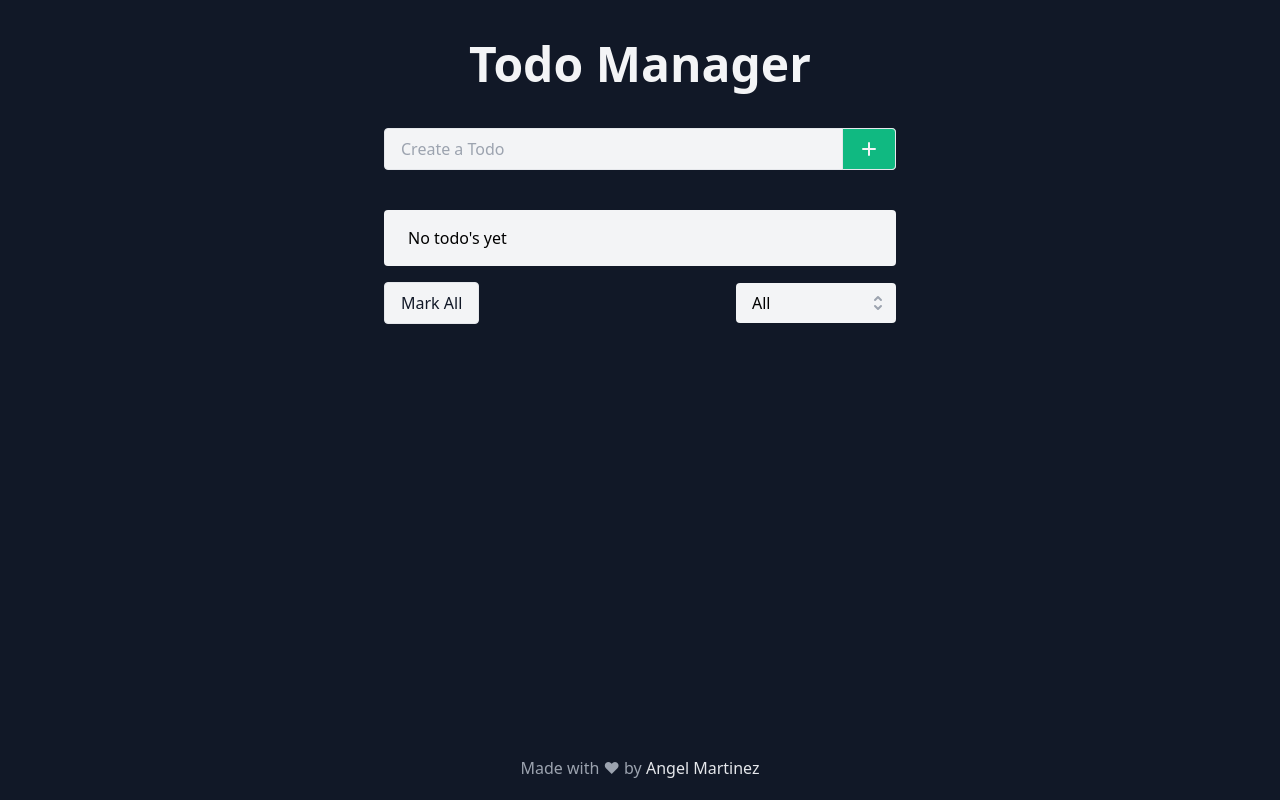
Test: App › should be able to delete a to-do
Type "Go to Grocery Store" into the field with placeholder "Create a Todo" at (640, 149), box x1=384 y1=128 x2=896 y2=170
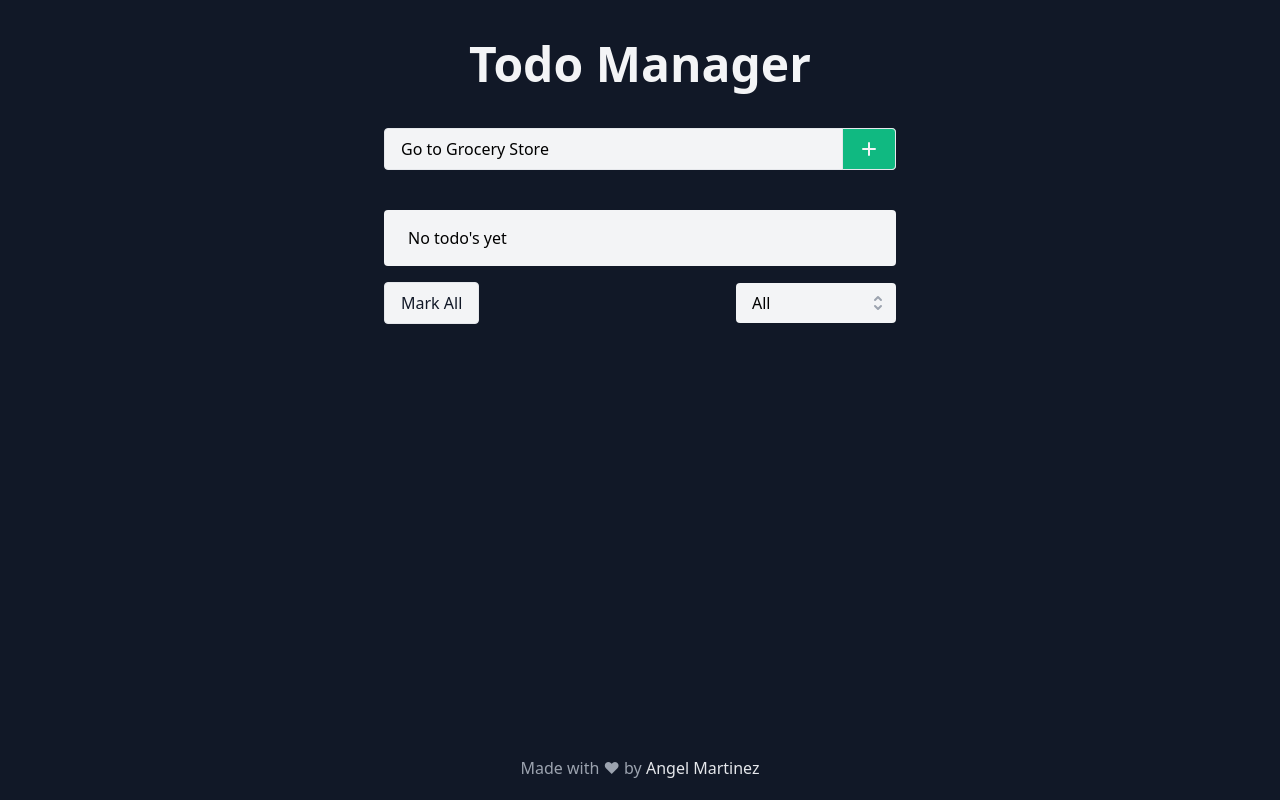
Click the button named "create" at (869, 149), box x1=842 y1=128 x2=896 y2=170
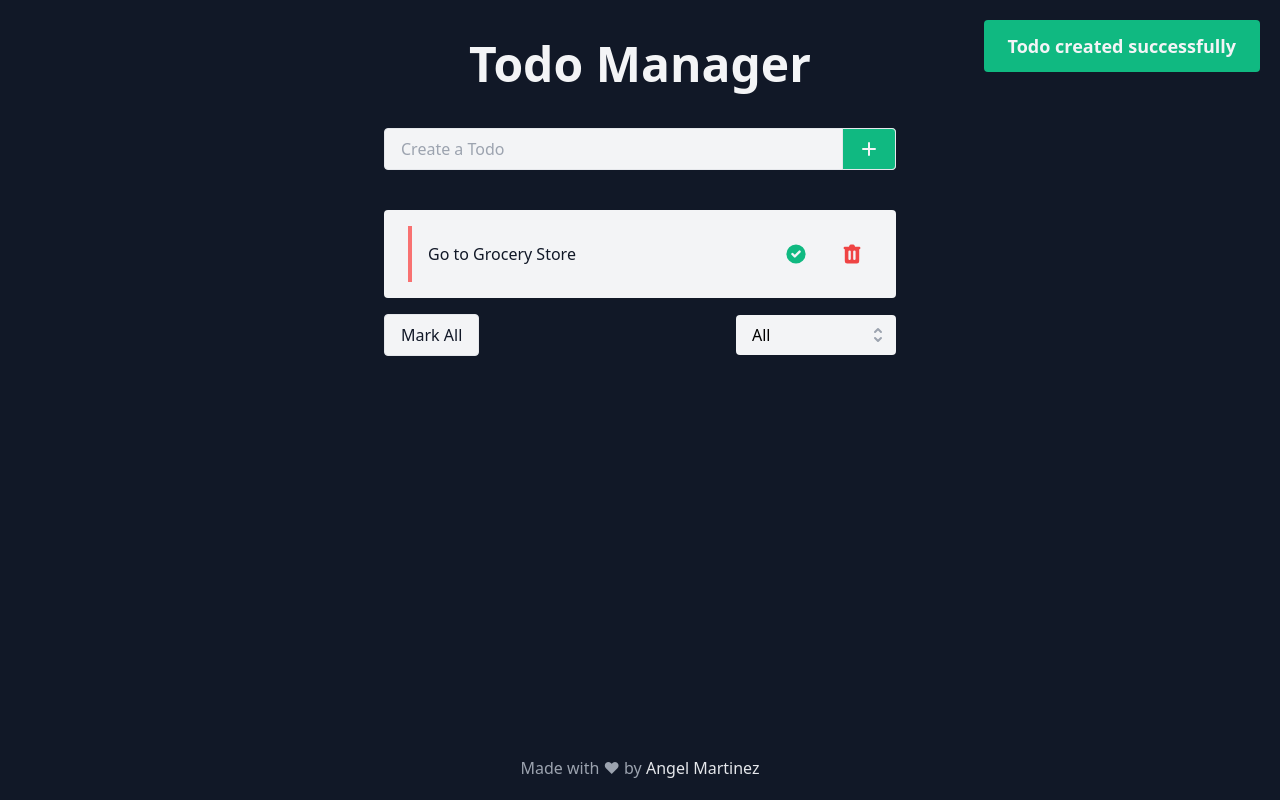
Click the button named "delete-todo" at (852, 254), box x1=832 y1=234 x2=872 y2=274
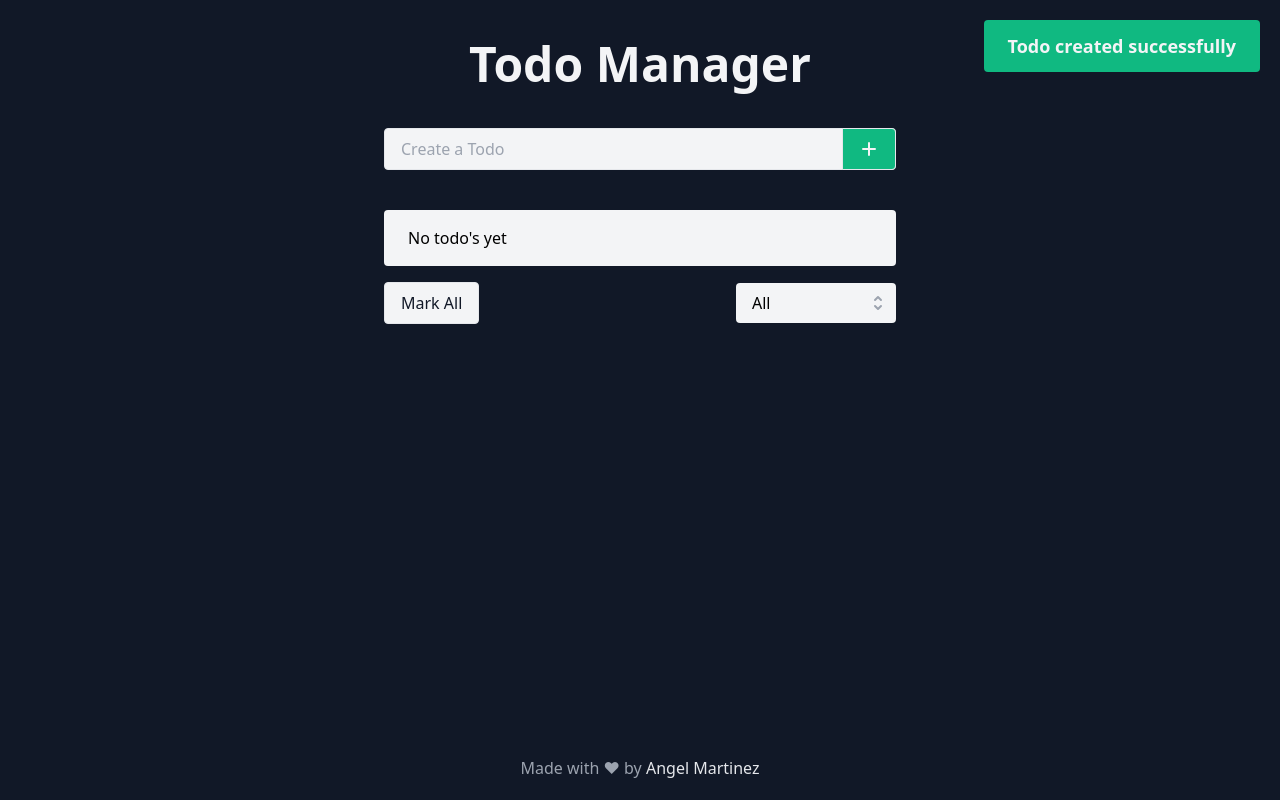
Expected: the text "Go to Grocery Store" is gone
